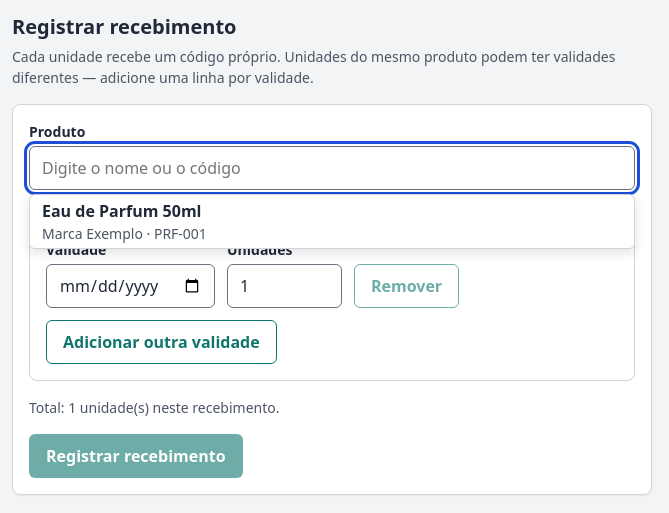
TelaRecebimento (RF03) › só habilita o envio com produto escolhido e todas as validades preenchidas
expect the button "Registrar recebimento" is disabled: met, box [29, 434, 243, 478]
Click the option "Eau de Parfum 50ml Marca Exemplo · PRF-001" at (124, 222), box [42, 200, 207, 243]
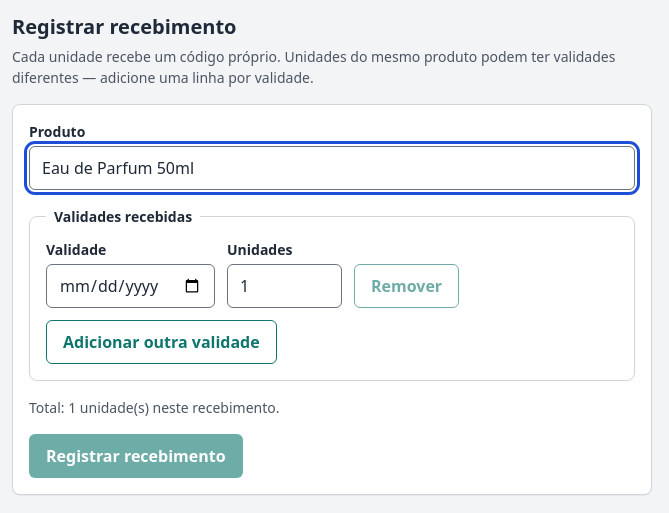
expect the button "Registrar recebimento" is disabled: met, box [29, 434, 243, 478]
Type "2027-03-01" into the date field labelled "Validade" at (130, 286), box [46, 264, 215, 308]
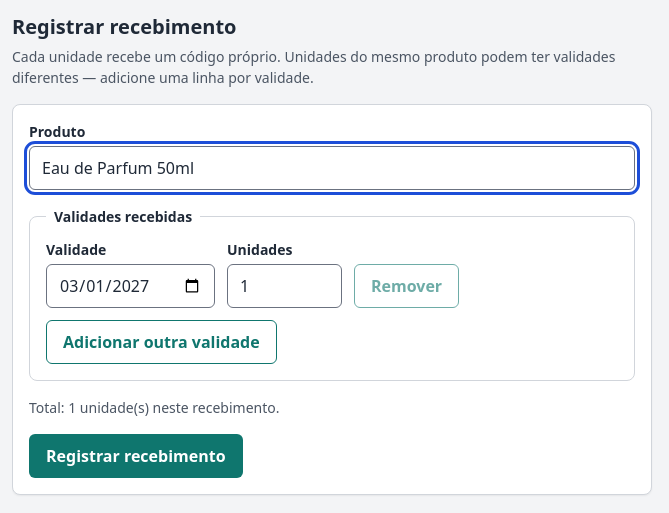
expect the button "Registrar recebimento" is enabled: met, box [29, 434, 243, 478]
